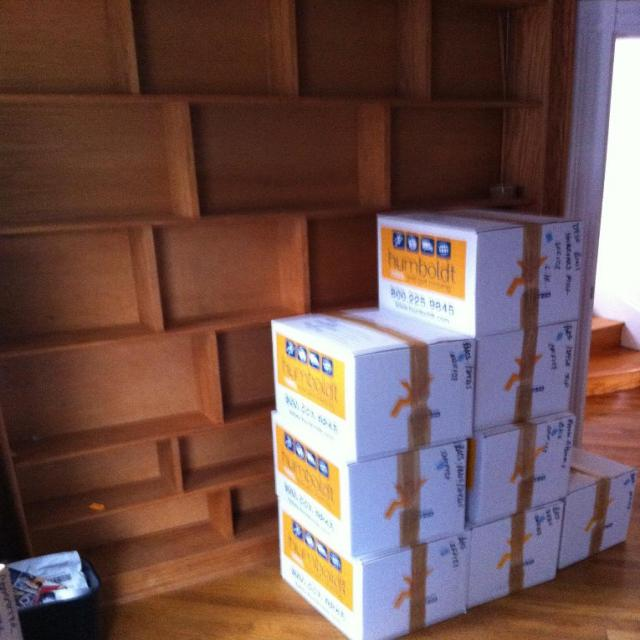Box: (270, 209, 637, 640)
